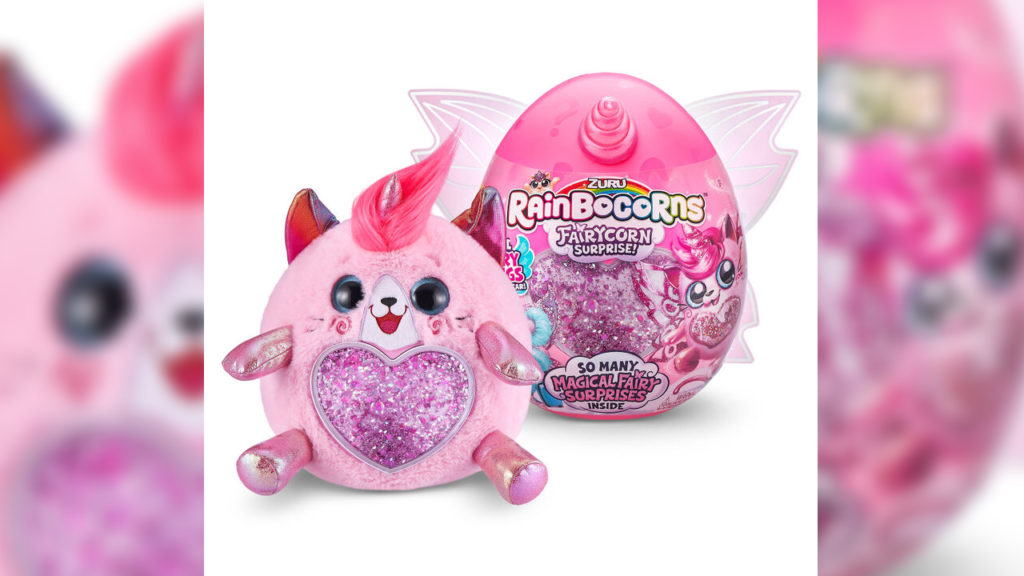toy: (225, 35, 778, 534)
